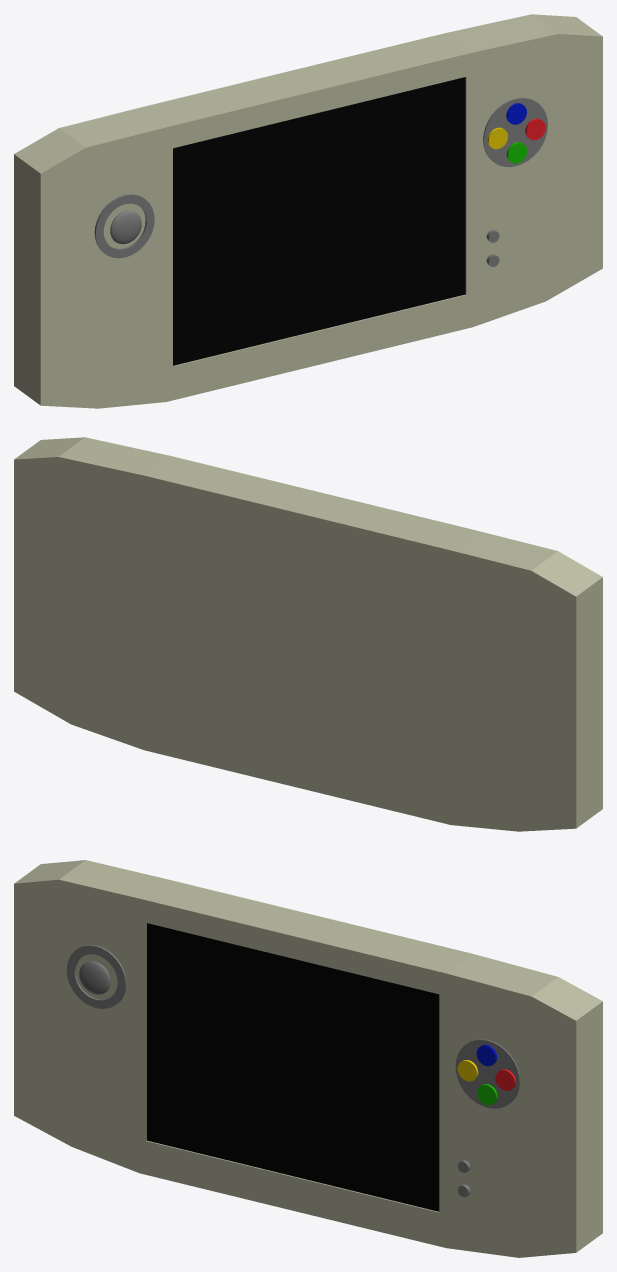
File: GBA.fbx
3 views of the same model, one above another, from view 1: azimuth 30°, elevation 25°; view 2: azimuth 150°, elevation 25°; view 3: azimuth 330°, elevation 25° (orthographic).
Visible parts, largest first — view 1: Plane, Cylinder.004, Cylinder.005, Sphere; view 2: Plane; view 3: Plane, Cylinder.004, Cylinder.005, Sphere.
Boxes of the visible parts, x1,y1,x2,y2 form: Plane: (14, 14, 602, 408); Cylinder.004: (483, 97, 547, 167); Cylinder.005: (94, 194, 154, 258); Sphere: (110, 210, 141, 244); Plane: (14, 437, 602, 831); Plane: (14, 860, 602, 1257); Cylinder.004: (455, 1039, 520, 1108); Cylinder.005: (66, 945, 126, 1008); Sphere: (79, 961, 110, 994).
Bounding box in the file's own units: 4.59 × 2.14 × 0.4443.
